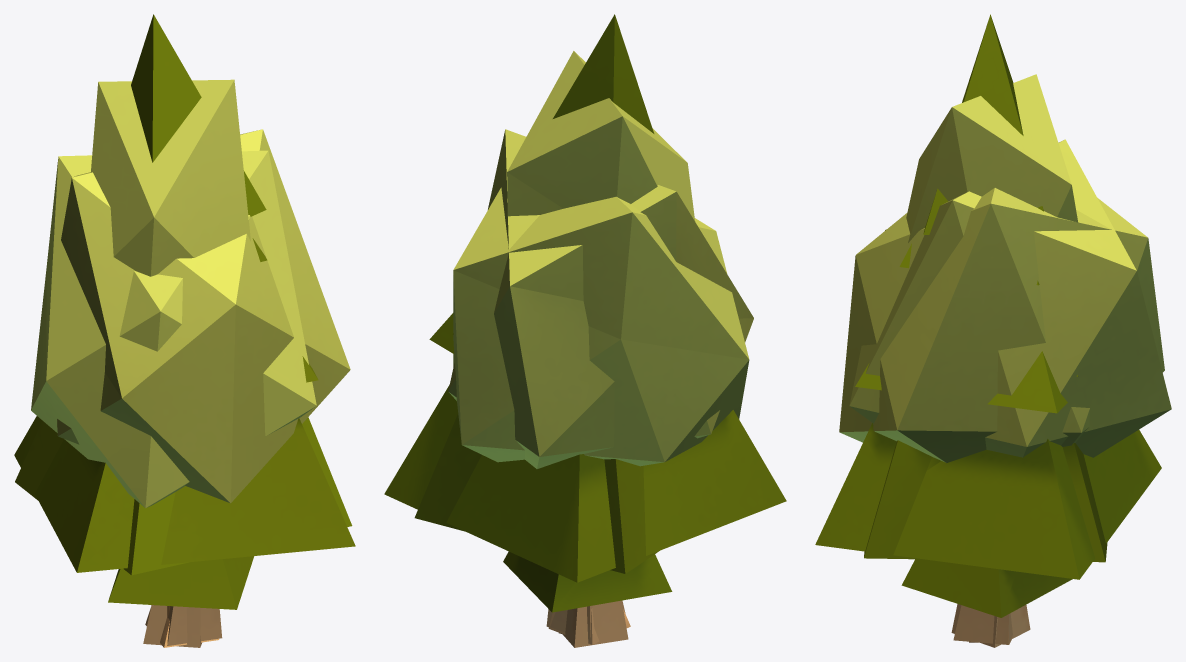
3 renders of one model, left to right at view 1: azimuth 30°, elevation 25°; view 2: azimuth 150°, elevation 25°; view 3: azimuth 270°, elevation 25°, orthographic. The views are drawn at different scales.
Parts seen in each view (by area): view 1: forest.002, forest.007, forest.004, forest.003, forest.006, forest.001; view 2: forest.007, forest.004, forest.002, forest.003, forest.006, forest.001; view 3: forest.002, forest.007, forest.004, forest.003, forest.006, forest.001.
Boxes of the visible parts, box(x1,y1,x2,y2) form: forest.002: box(57, 129, 350, 645); forest.007: box(31, 150, 316, 647); forest.004: box(14, 238, 355, 617); forest.003: box(81, 79, 250, 647); forest.006: box(15, 14, 352, 575); forest.001: box(108, 556, 254, 609); forest.007: box(453, 187, 749, 647); forest.004: box(384, 313, 786, 582); forest.002: box(448, 129, 753, 641); forest.003: box(507, 51, 695, 644); forest.006: box(414, 14, 658, 633); forest.001: box(503, 551, 672, 612); forest.002: box(839, 188, 1164, 644); forest.007: box(849, 139, 1171, 647); forest.004: box(815, 243, 1161, 579); forest.003: box(906, 74, 1078, 644); forest.006: box(864, 14, 1107, 642); forest.001: box(901, 559, 1072, 617).
Bounding box in the file's own units: 51.12 × 52.57 × 98.65.
